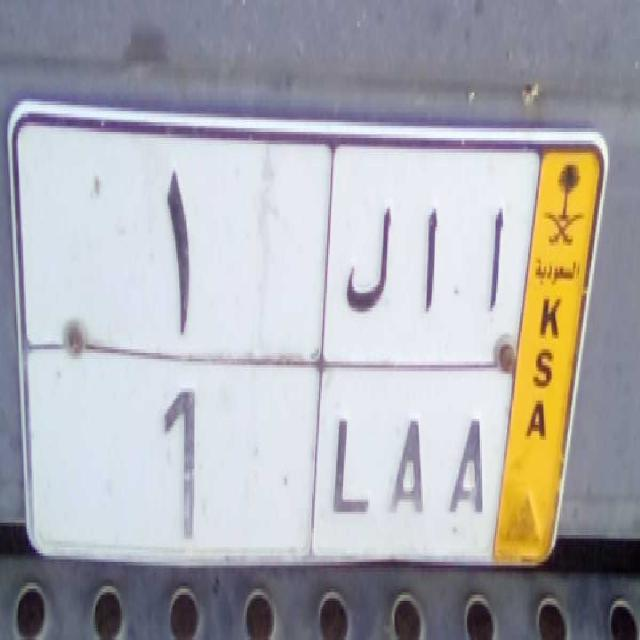license_plate: (21, 342, 502, 578)
